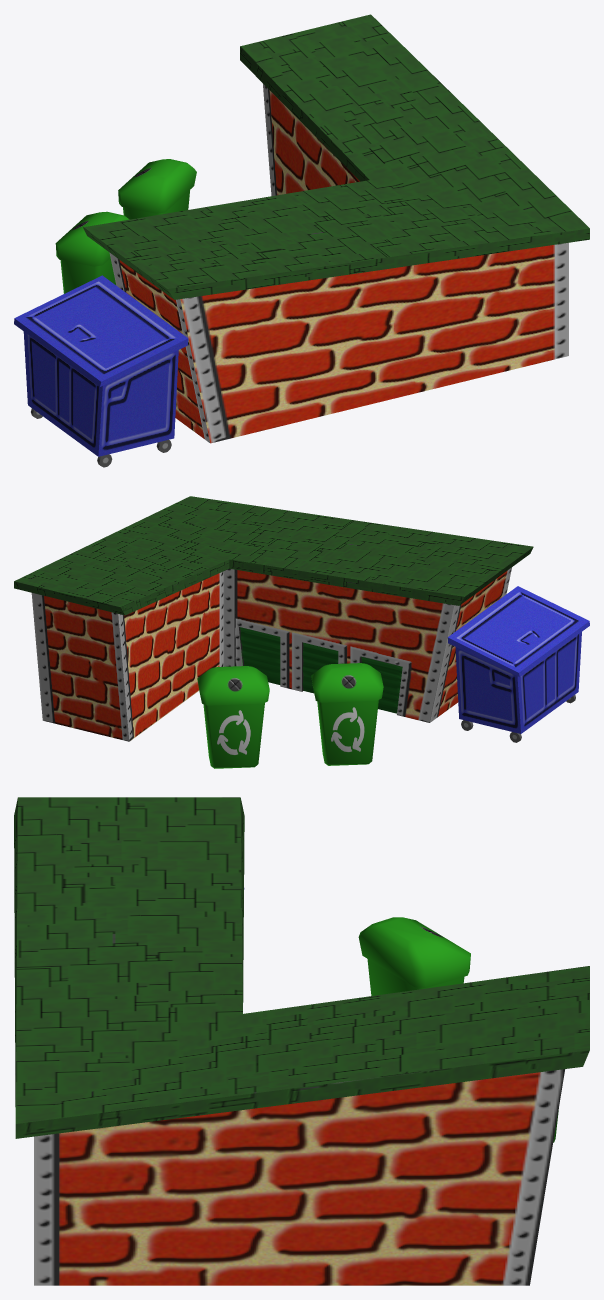
File: WasteManagementFacility.FBX
The picture shows the model from 3 angles, top to bottom: view 1: azimuth 30°, elevation 25°; view 2: azimuth 150°, elevation 25°; view 3: azimuth 270°, elevation 25°; orthographic projection. The views are drawn at different scales.
Parts seen in each view (by area): view 1: Box014; view 2: Box014; view 3: Box014.
Part boxes in pixels (<box>): Box014: <box>14,14,589,467</box>; Box014: <box>14,496,589,768</box>; Box014: <box>14,797,589,1285</box>.
Bounding box in the file's own units: 79.84 × 28.66 × 61.42.
